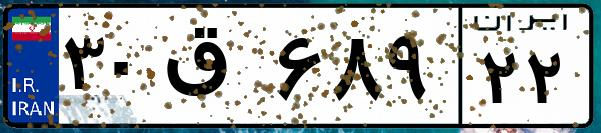0: (110, 28, 158, 98)
2: (475, 38, 525, 113), (525, 38, 570, 115)
3: (57, 26, 110, 100)
6: (270, 28, 330, 110)
8: (330, 28, 385, 110)
9: (385, 28, 445, 110)
ق: (158, 20, 270, 120)
